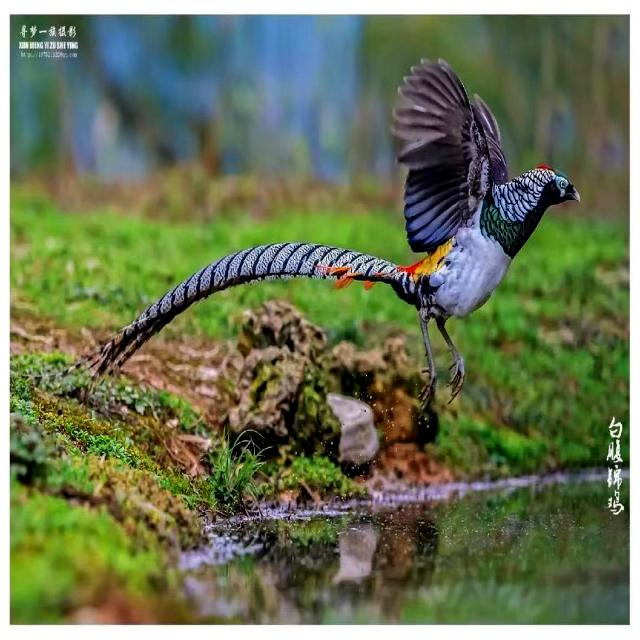Chrysolophus amherstiae: (97, 243, 399, 374)
